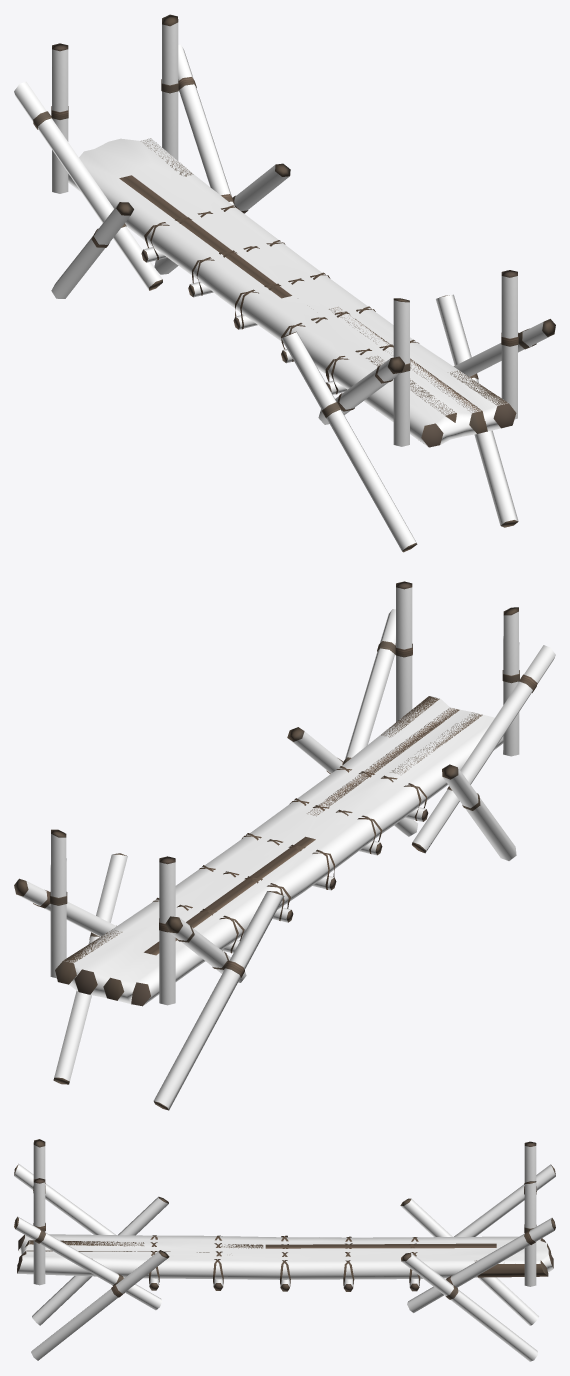
File: objects_un_log_bridge02.gltf
3 views of the same model, one above another, from view 1: azimuth 30°, elevation 25°; view 2: azimuth 150°, elevation 25°; view 3: azimuth 270°, elevation 25° (orthographic). The views are drawn at different scales.
Visible parts, largest first — view 1: um_objects_un_log_bridge02_model_lod0Shape:objects_un_log_br (×2); view 2: um_objects_un_log_bridge02_model_lod0Shape:objects_un_log_br (×2); view 3: um_objects_un_log_bridge02_model_lod0Shape:objects_un_log_br (×2).
Boxes of the visible parts, x1=… form: um_objects_un_log_bridge02_model_lod0Shape:objects_un_log_br (×2): x1=14, y1=14, x2=555, y2=552; um_objects_un_log_bridge02_model_lod0Shape:objects_un_log_br (×2): x1=14, y1=581, x2=555, y2=1110; um_objects_un_log_bridge02_model_lod0Shape:objects_un_log_br (×2): x1=14, y1=1139, x2=555, y2=1361.
Size of what is drawn, in the model's own units: 5.71 by 7.73 by 20.91.
Materials: 2 (1 with a texture image).
